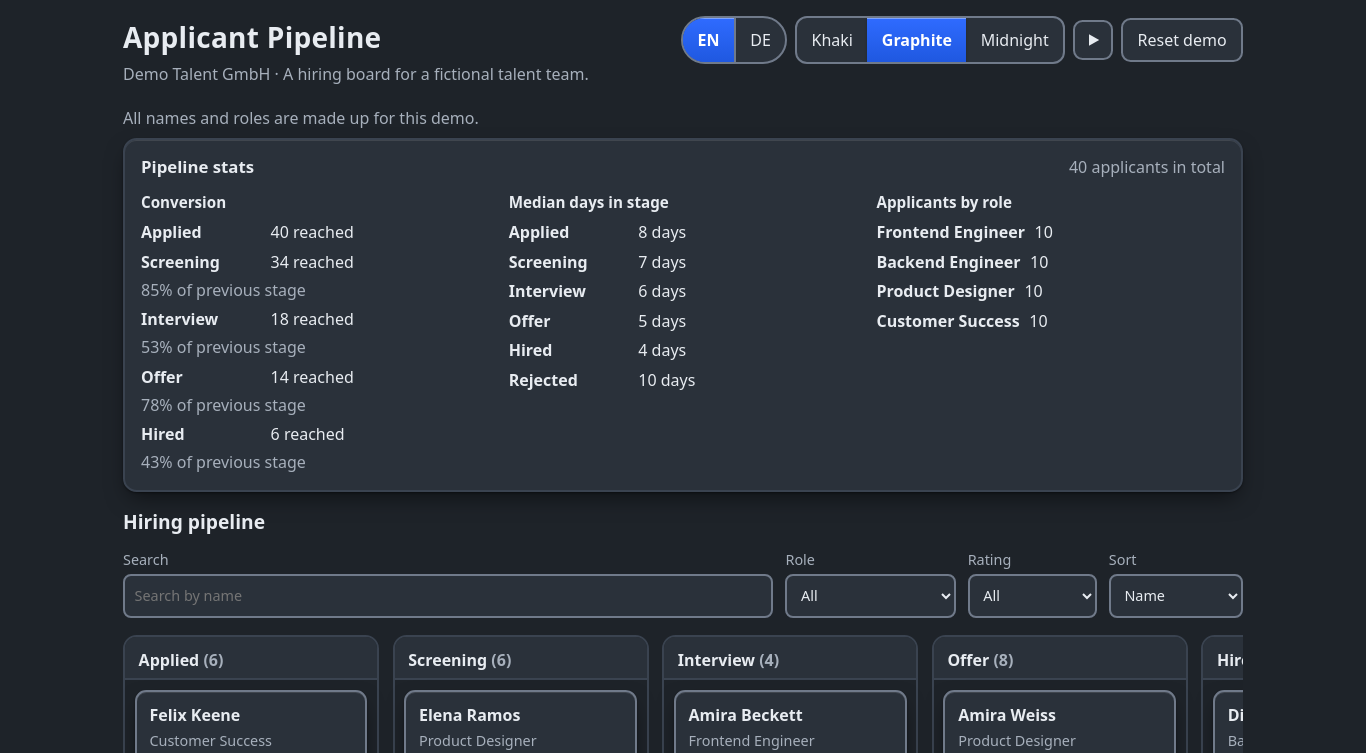
Test: App shell › switches the UI to German and back
This screenshot has width=1366, height=753.
Click the button "DE" at (760, 40), box [734, 18, 785, 62]
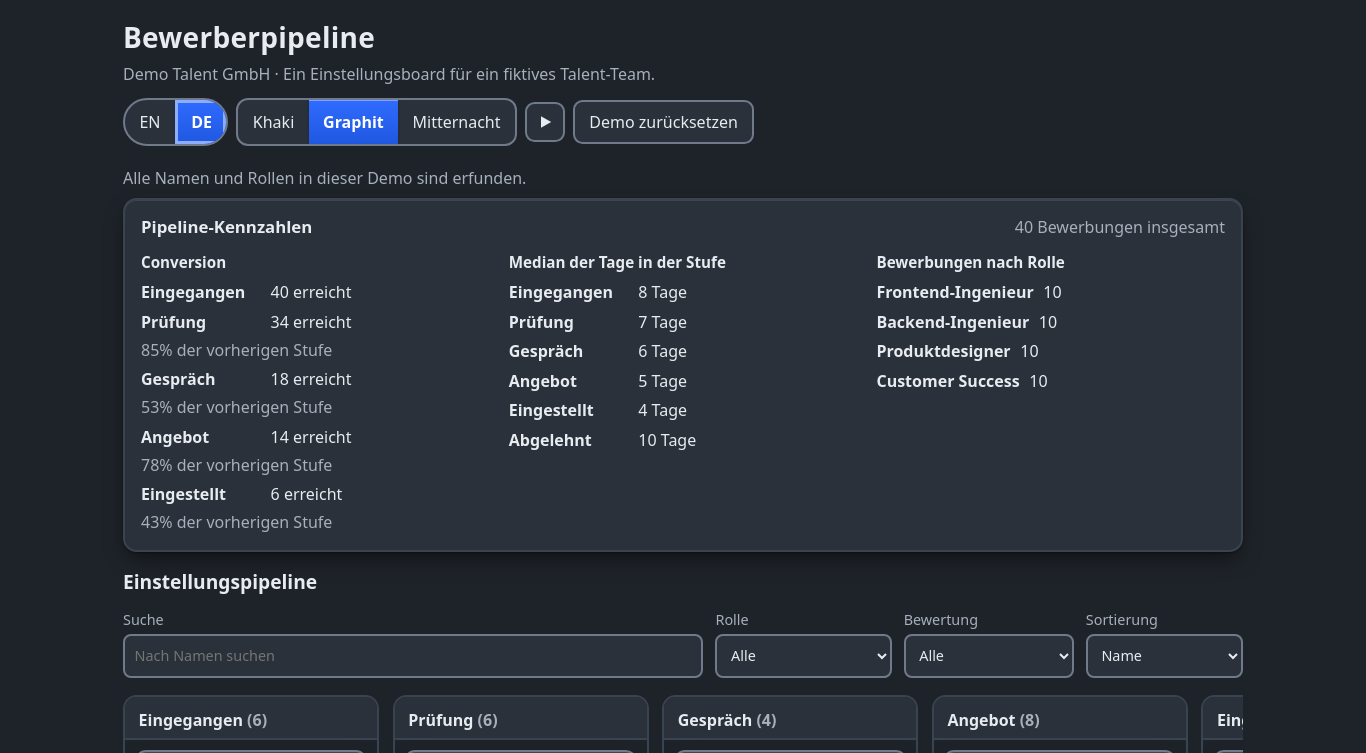
Now the heading "Bewerberpipeline" is shown, box [123, 18, 375, 56]
Click the button "EN" at (150, 122), box [125, 100, 175, 144]
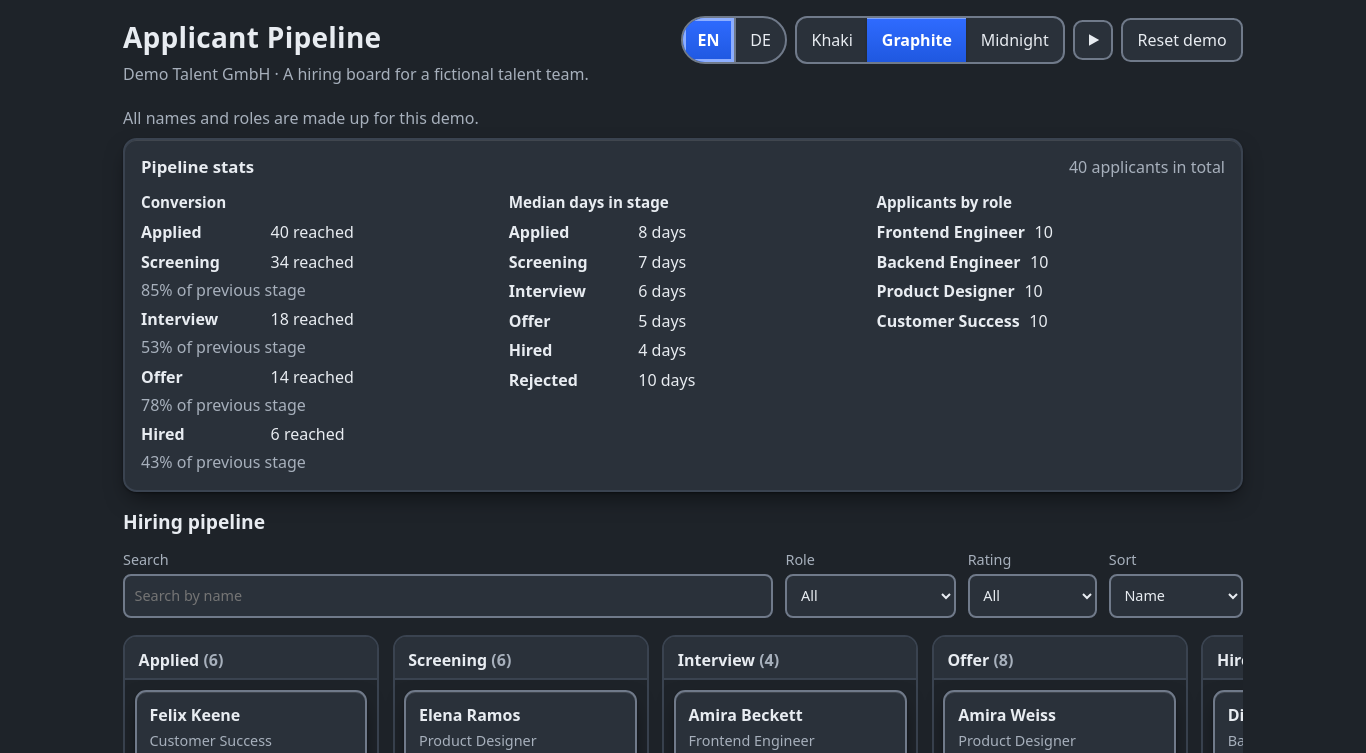
Now the heading "Applicant Pipeline" is shown, box [123, 18, 382, 56]
